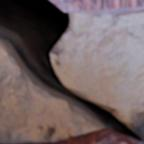brick: (48, 129, 140, 143)
broken_brick: (52, 0, 143, 15)
crack: (0, 0, 143, 143)
